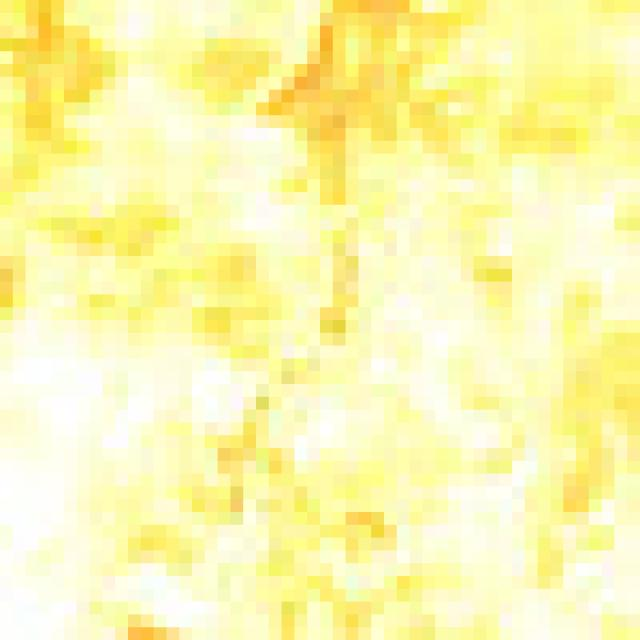fire: (1, 3, 637, 640)
